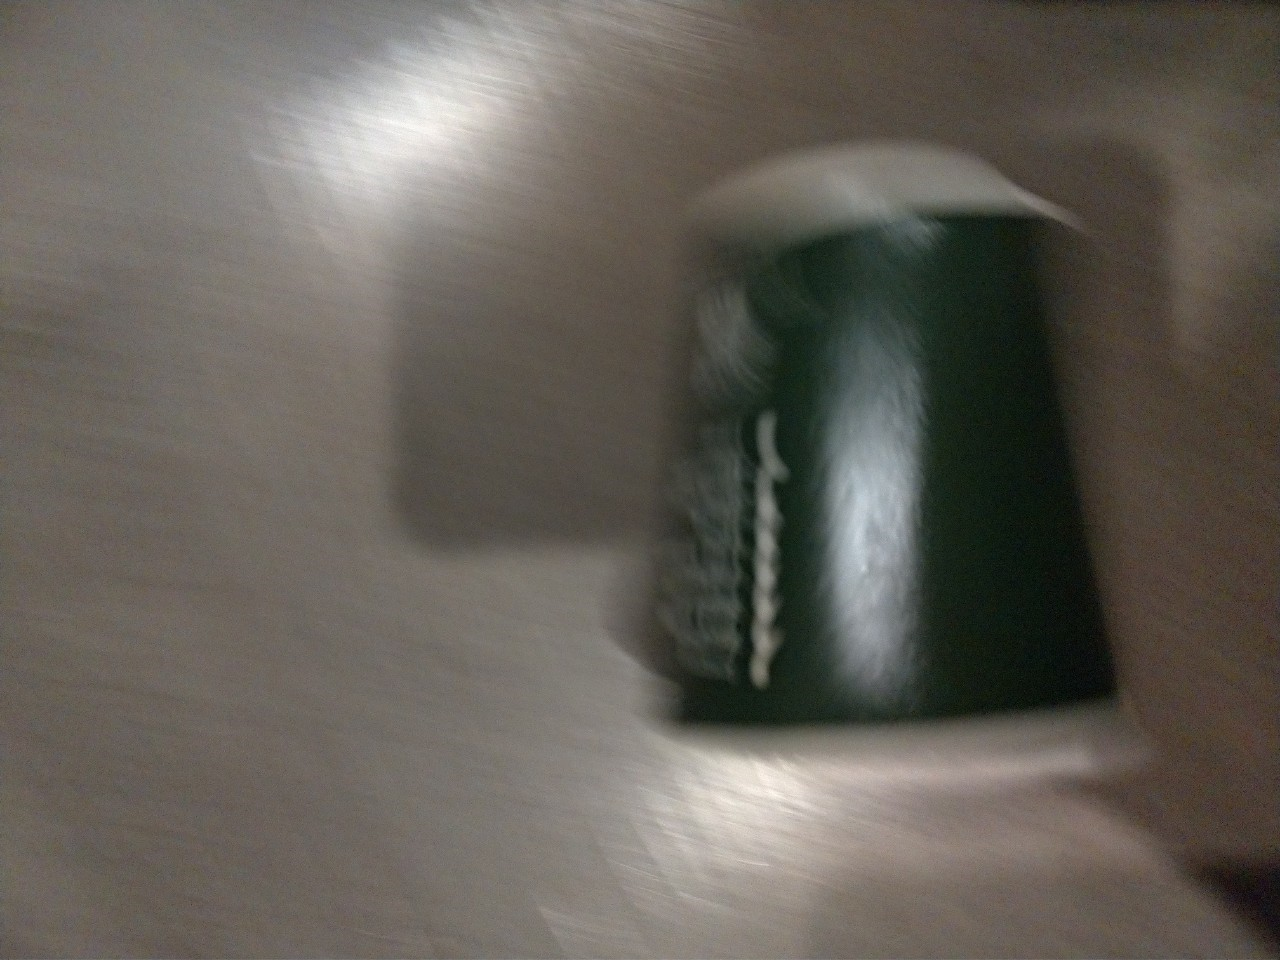PaperCup: (636, 149, 1145, 783)
